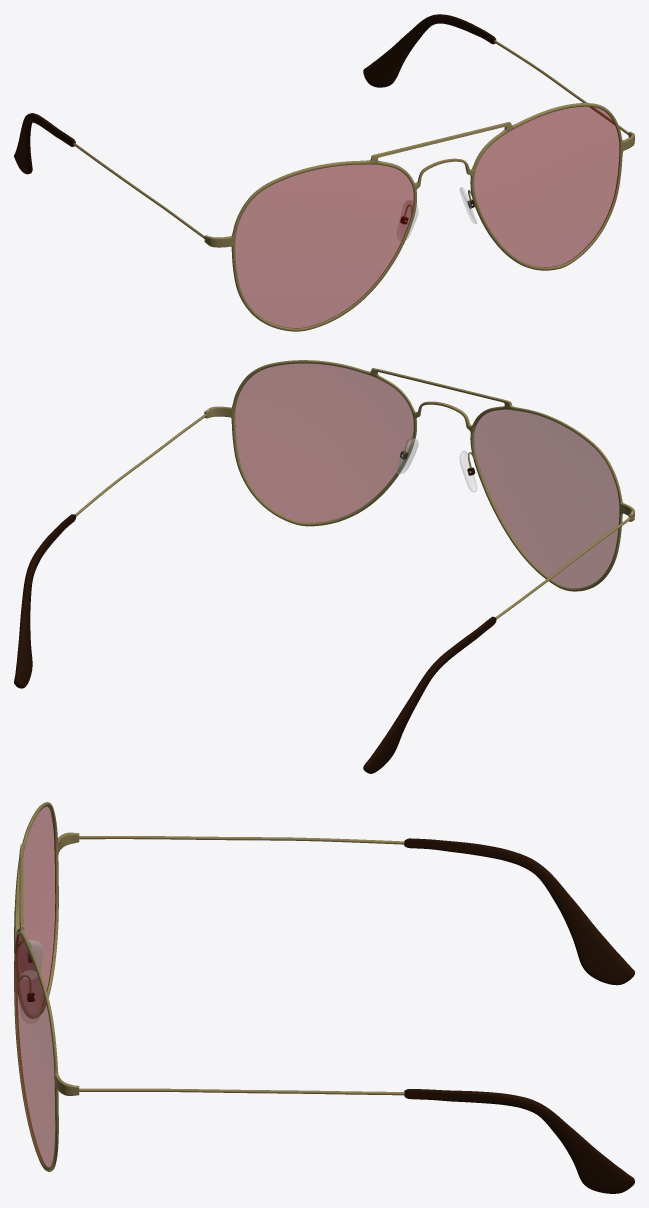
3 renders of one model, top to bottom at view 1: azimuth 30°, elevation 25°; view 2: azimuth 150°, elevation 25°; view 3: azimuth 270°, elevation 25°, orthographic. The views are drawn at different scales.
Parts seen in each view (by area): view 1: Aviators; view 2: Aviators; view 3: Aviators.
Boxes of the visible parts, x1=… form: Aviators: x1=14, y1=14, x2=634, y2=331; Aviators: x1=14, y1=360, x2=634, y2=773; Aviators: x1=14, y1=802, x2=634, y2=1193.
Size of the model in its own units: 13.96 by 5.22 by 14.4.
